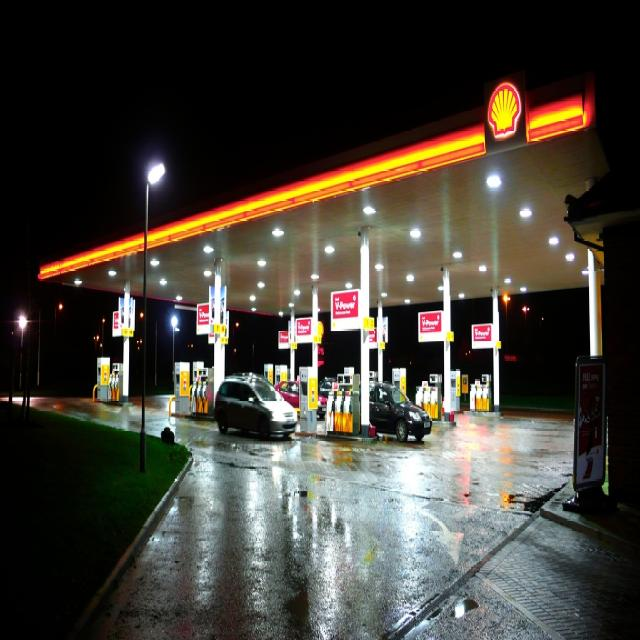shell: (488, 81, 523, 144)
